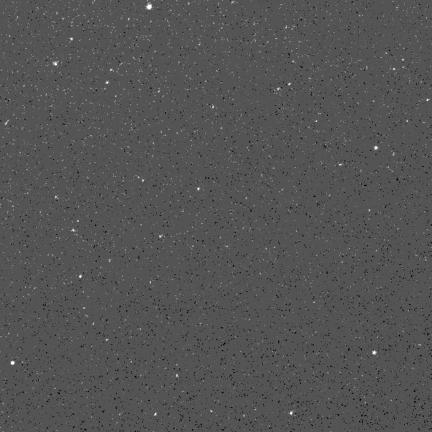blob: (146, 3, 152, 10), (373, 351, 377, 355), (11, 361, 15, 365), (79, 275, 83, 279)
